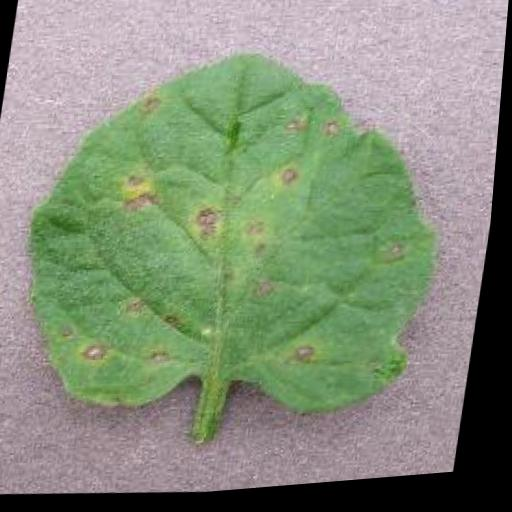Septoria: (8, 25, 470, 447)
